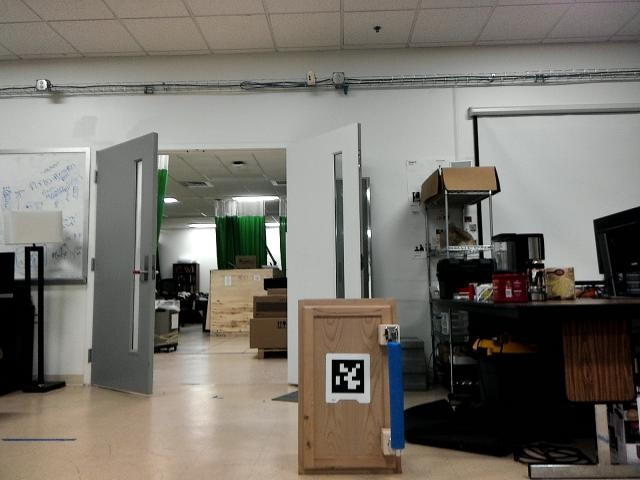noodle_handle: (383, 336, 406, 451)
